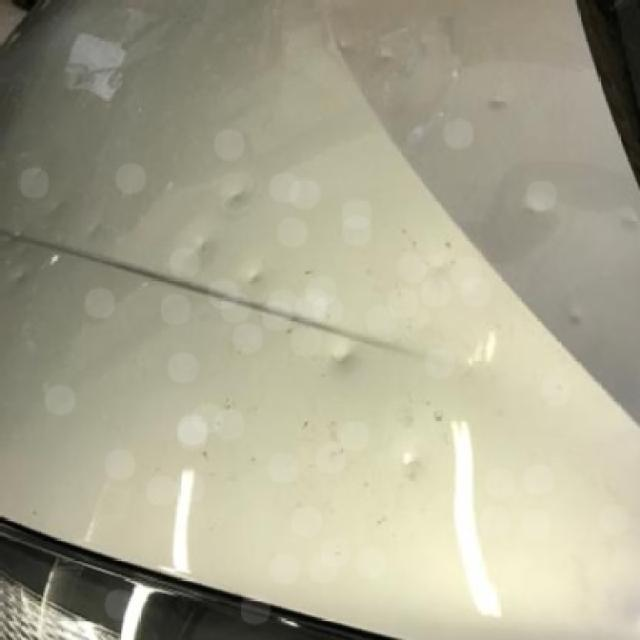dent: (218, 183, 251, 209), (333, 343, 359, 371), (186, 234, 212, 260), (402, 454, 427, 480), (614, 208, 640, 233), (245, 266, 268, 288), (486, 95, 509, 111), (568, 306, 587, 325), (9, 263, 28, 282), (86, 218, 105, 237), (48, 195, 65, 214)
